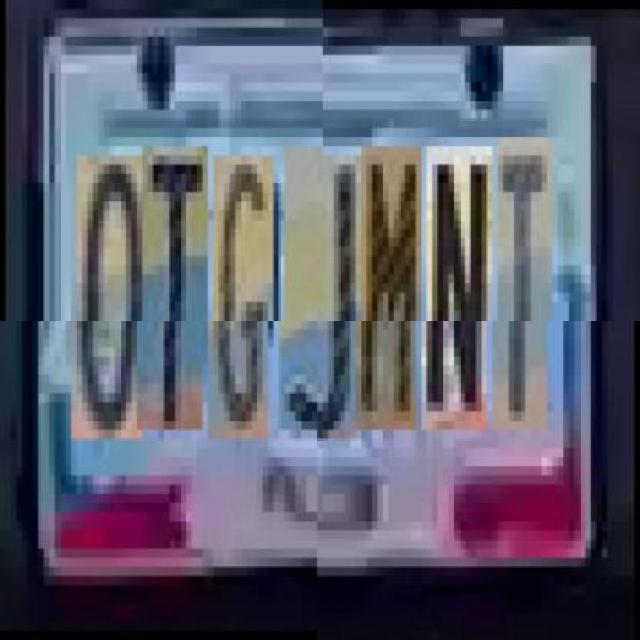g: (214, 165, 274, 448)
j: (284, 155, 361, 439)
m: (361, 145, 421, 430)
n: (427, 145, 491, 430)
o: (77, 165, 148, 448)
t: (142, 155, 208, 439), (497, 138, 552, 430)
